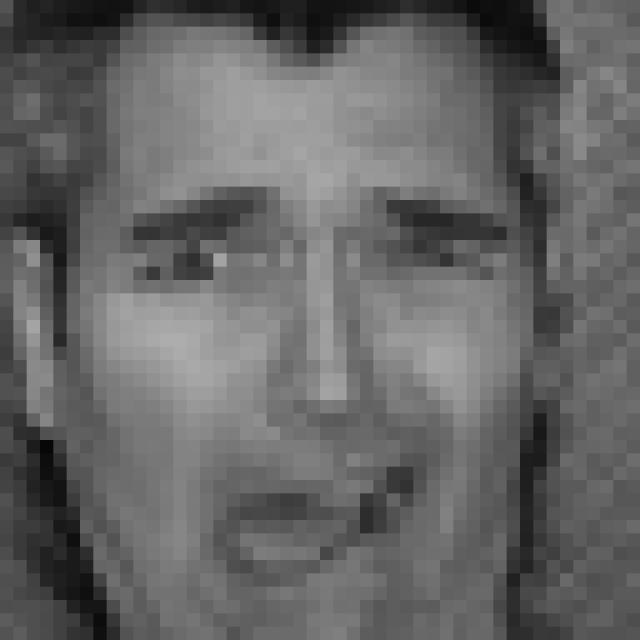disgust: (116, 179, 517, 596)
